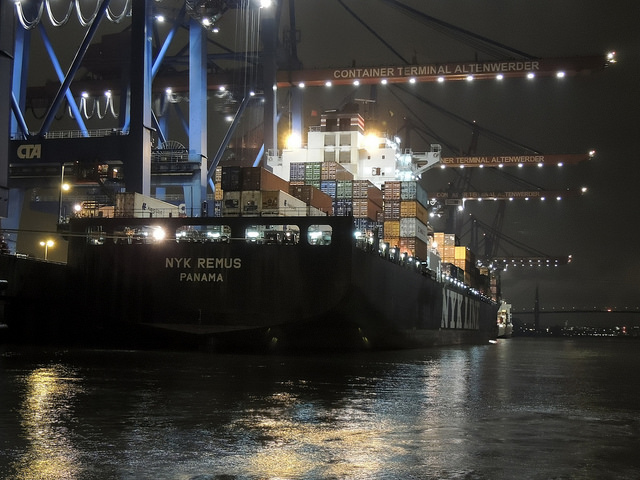container_ship: (69, 94, 505, 339)
